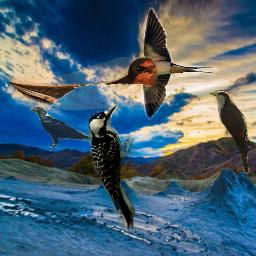Crow: (29, 106, 93, 149)
Cuckoo: (209, 90, 251, 175)
Swallow: (132, 7, 216, 121), (9, 56, 158, 110)
Woodpecker: (82, 101, 145, 240)
